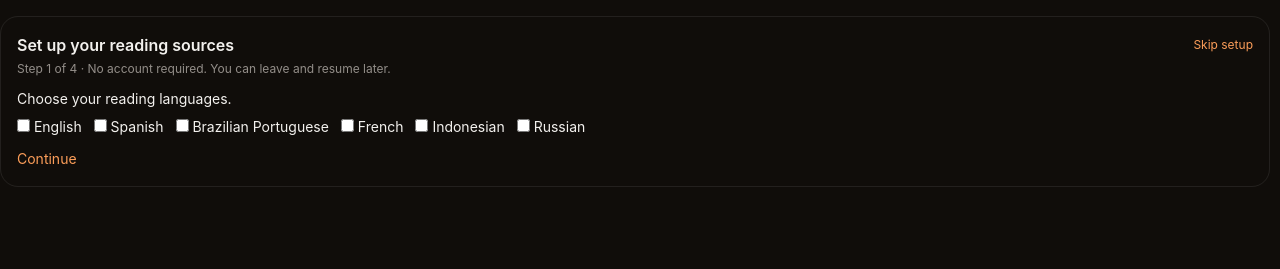
it: Anonymous source onboarding resume and recovery › uses an existing repository without adding a duplicate
The width and height of the screenshot is (1280, 269).
Click the button "Continue" at (47, 159), box x1=17 y1=149 x2=77 y2=169
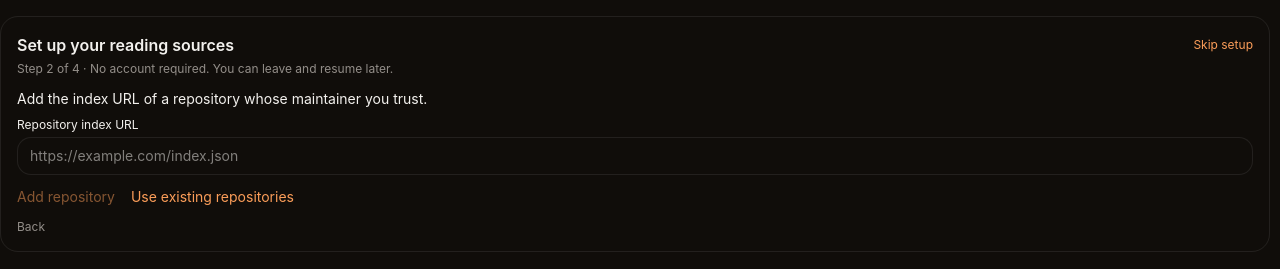
Click the button "Use existing repositories" at (212, 197), box x1=131 y1=187 x2=294 y2=207
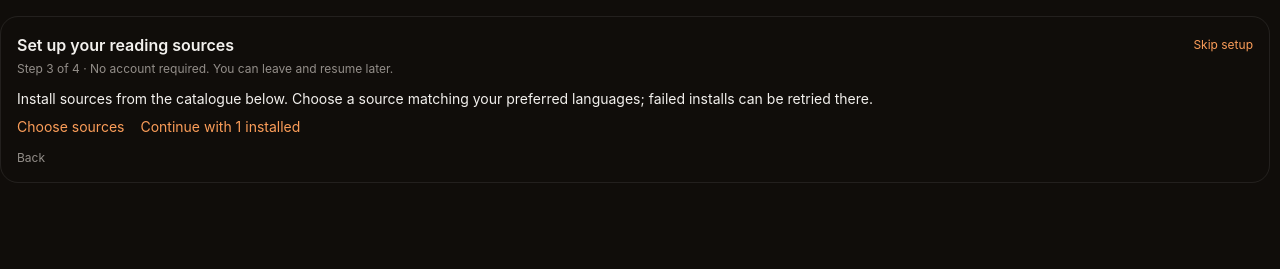
Expected: the text "Step 3 of 4" is shown, x1=17 y1=61 x2=393 y2=76
